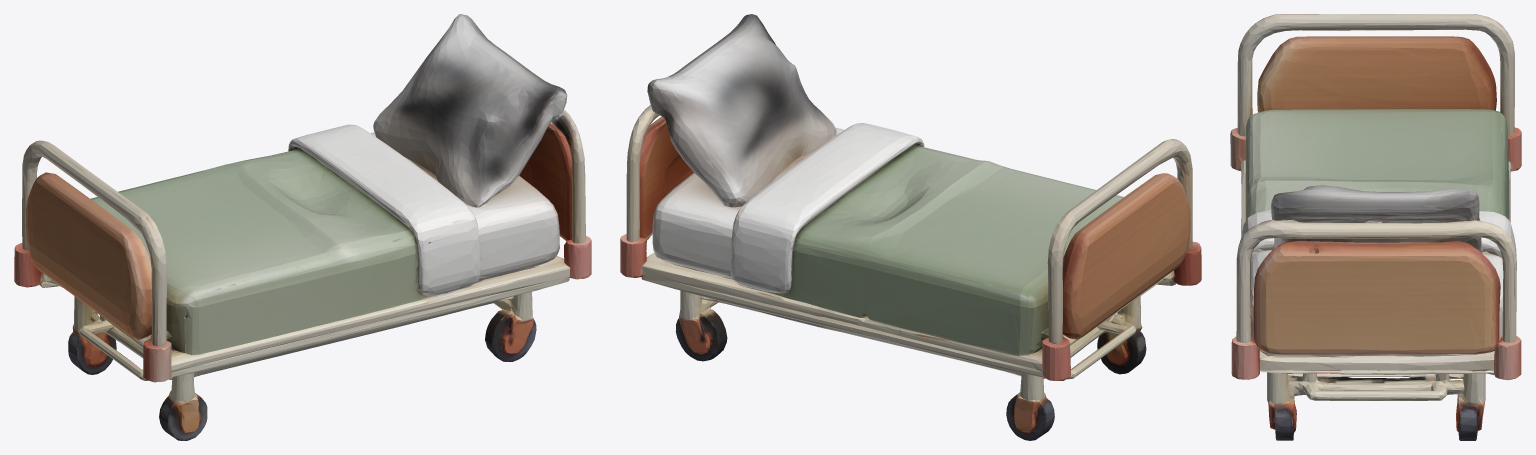
File: bed.glb
3 renders of one model, left to right at view 1: azimuth 30°, elevation 25°; view 2: azimuth 150°, elevation 25°; view 3: azimuth 270°, elevation 25°, orthographic.
Visible parts, largest first — view 1: geometry_0; view 2: geometry_0; view 3: geometry_0.
Part boxes in pixels (x1,y1,x2,y2): geometry_0: (14, 14, 591, 440); geometry_0: (620, 14, 1201, 440); geometry_0: (1230, 14, 1521, 440).
Size of the model in its own units: 0.9854 by 0.5576 by 0.5459.
1 material, 1 textured.
